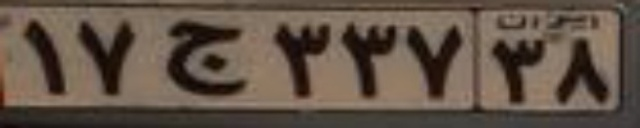1: (20, 20, 64, 94)
3: (270, 21, 331, 98), (339, 22, 399, 98), (491, 37, 549, 103)
7: (406, 23, 466, 99), (78, 18, 135, 95)
8: (555, 37, 610, 103)
jim: (160, 17, 245, 95)
